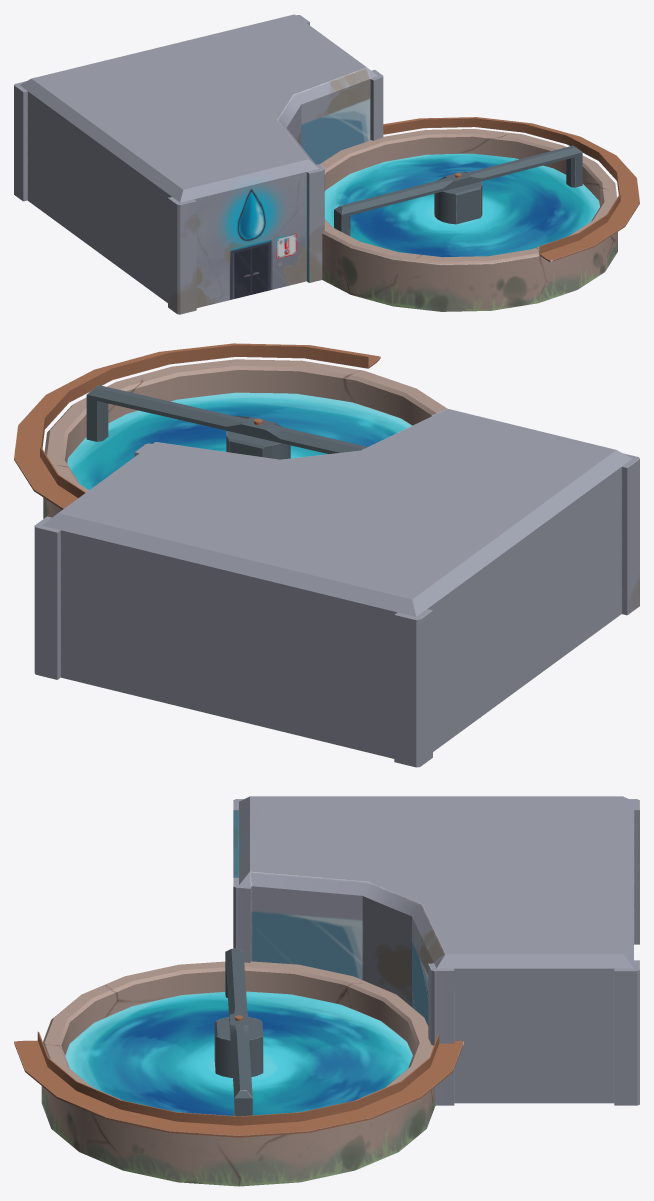
File: waterzuivering met mat.fbx
3 renders of one model, top to bottom at view 1: azimuth 30°, elevation 25°; view 2: azimuth 150°, elevation 25°; view 3: azimuth 270°, elevation 25°, orthographic. The views are drawn at different scales.
Parts seen in each view (by area): view 1: polySurface18, polySurface21; view 2: polySurface18, polySurface21; view 3: polySurface18, polySurface21.
Part boxes in pixels (bbox=[...]): polySurface18: bbox=[14, 14, 639, 314]; polySurface21: bbox=[324, 145, 599, 257]; polySurface18: bbox=[14, 343, 639, 767]; polySurface21: bbox=[67, 385, 412, 489]; polySurface18: bbox=[14, 796, 639, 1186]; polySurface21: bbox=[65, 948, 412, 1116].
Size of the model in its own units: 31.65 by 8.07 by 31.7.
